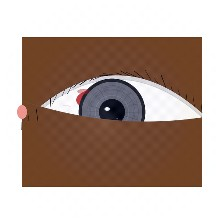hemorrhage_spot: (65, 67, 147, 133)
